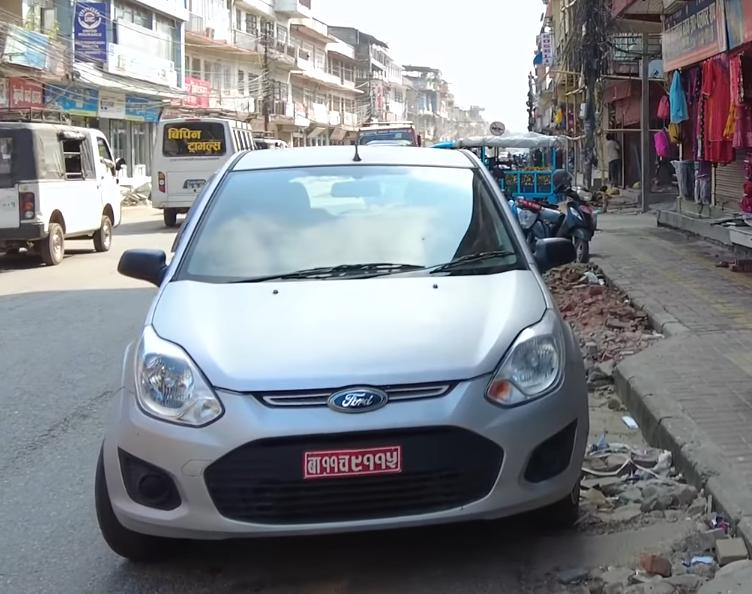bus: (143, 110, 257, 224)
car: (88, 135, 603, 594)
scooter: (517, 179, 598, 262)
